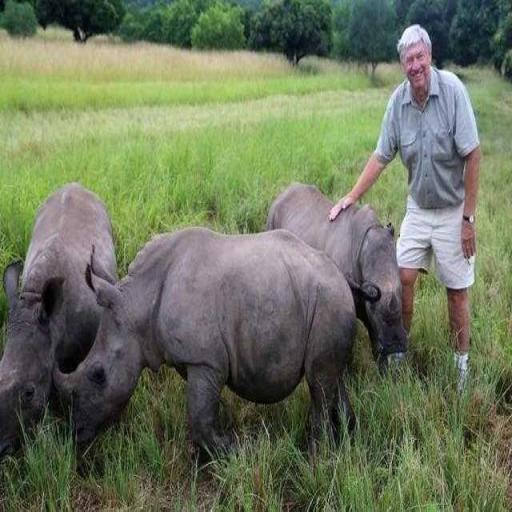Rhino: (50, 223, 360, 474), (0, 178, 118, 460), (264, 180, 410, 382)
